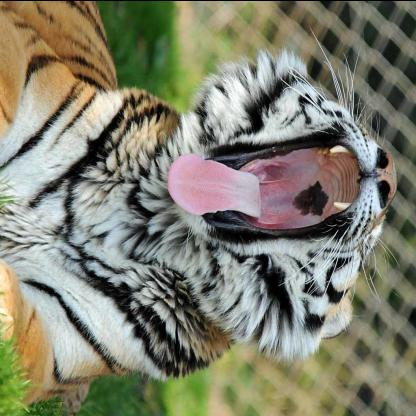tiger: (158, 60, 400, 351)
